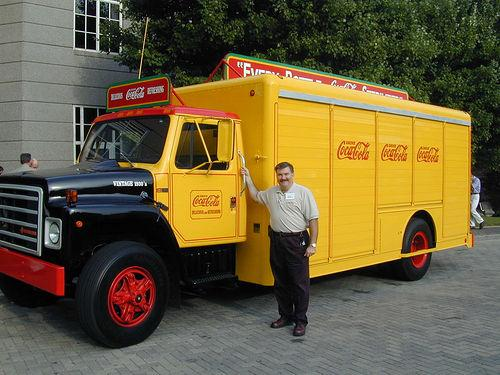truck: (0, 49, 475, 349)
